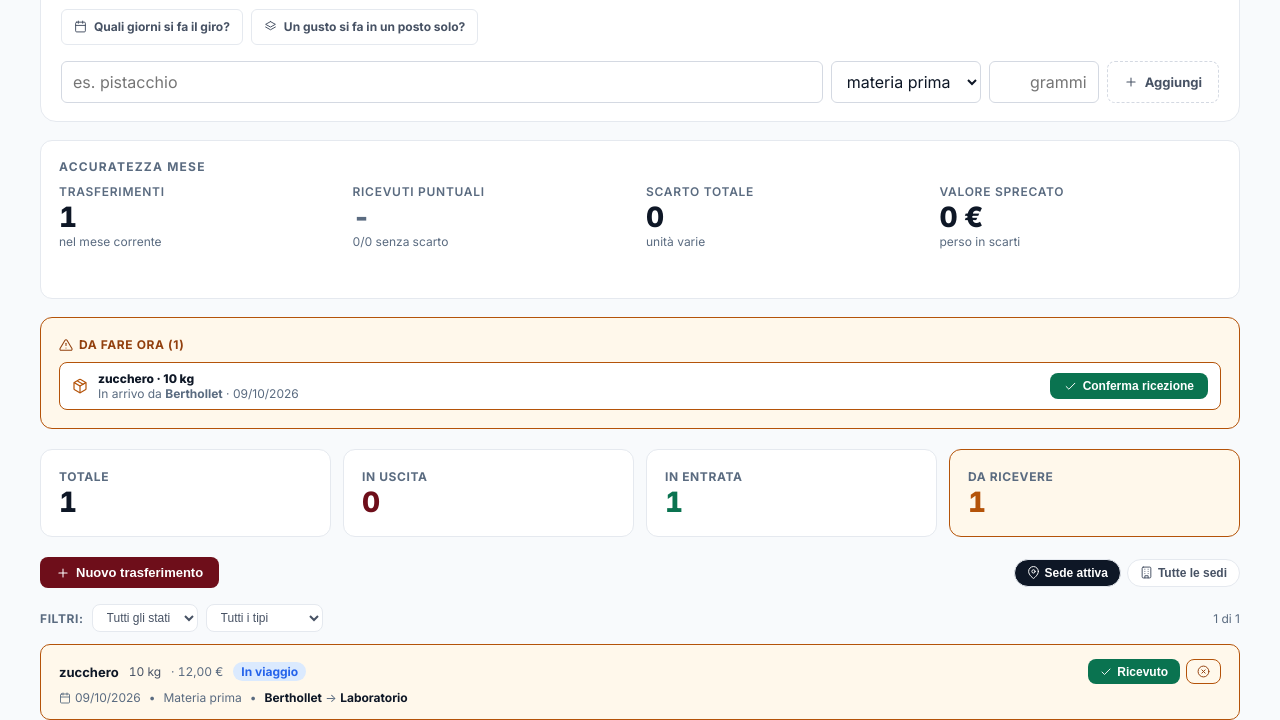
Test case: chi riceve › lo scarto si vede prima di confermare
The image size is (1280, 720).
(page scrolled)
Click the button "Ricevuto".
click(1134, 672)  # box [1088, 659, 1180, 684]
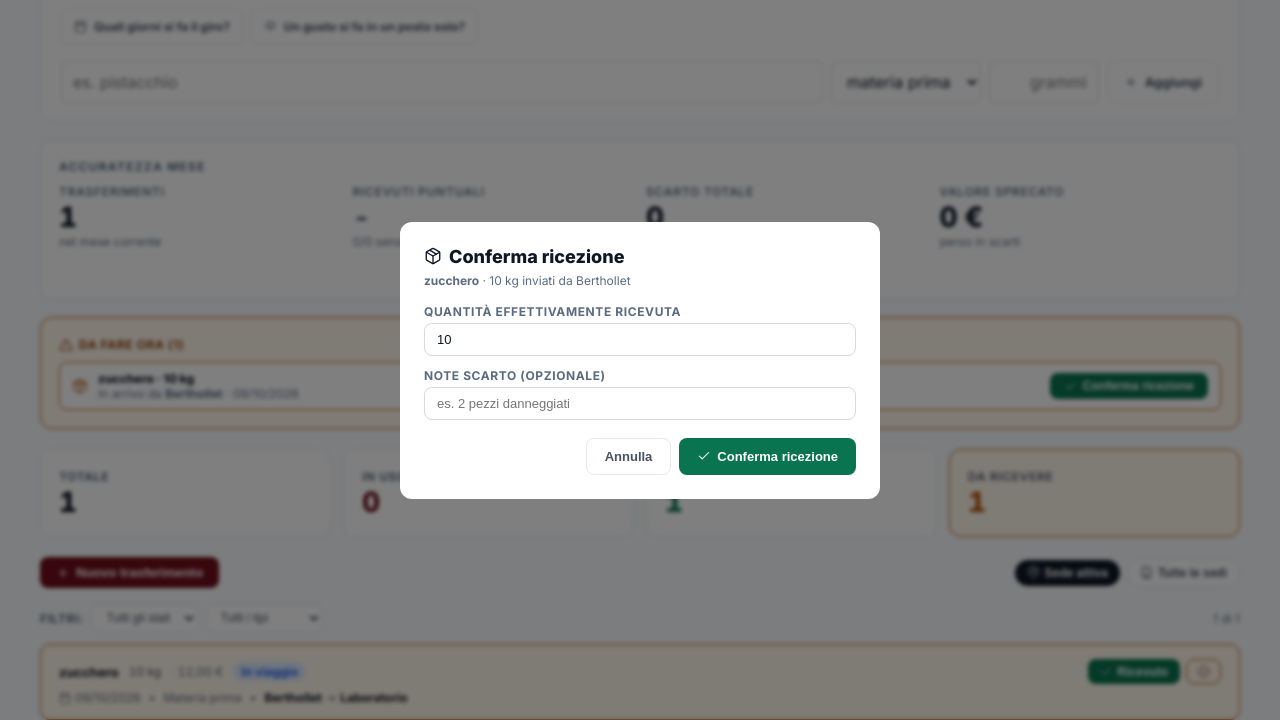
Replace the text in the number field with "8" at [640, 339], box [424, 322, 856, 356]
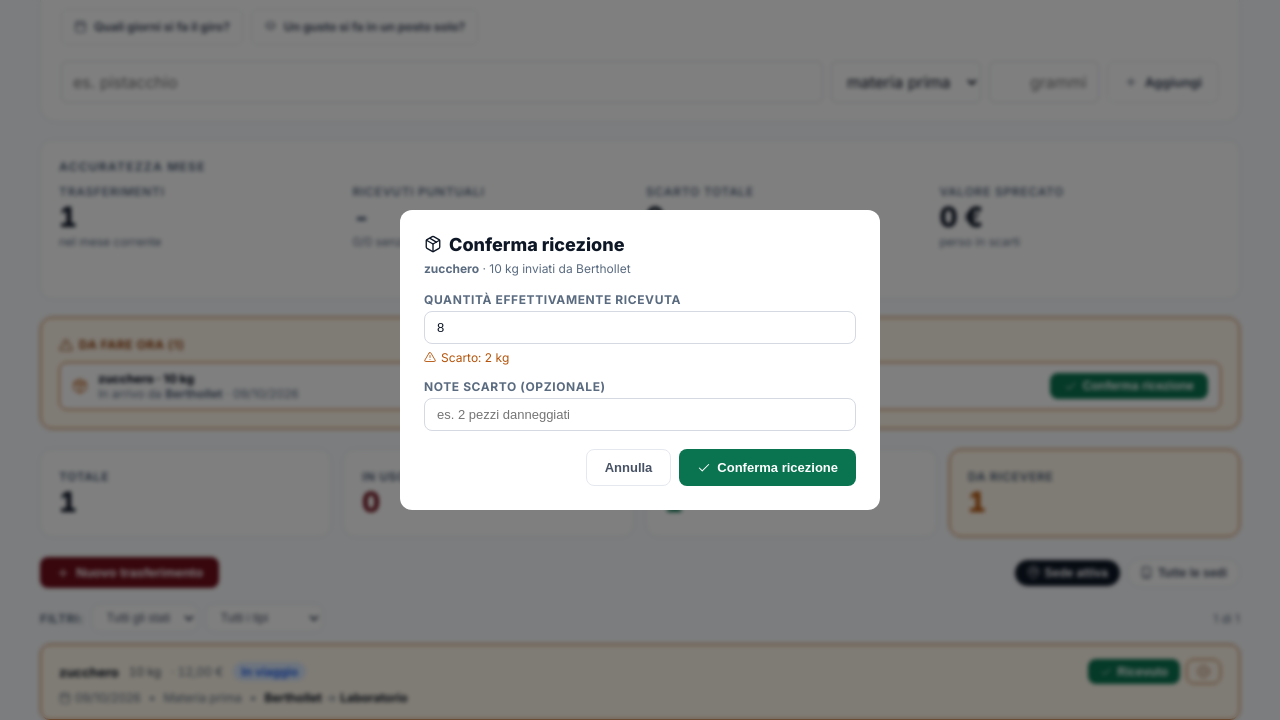
Expected: the text "Scarto: 2 kg" is shown, [424, 350, 509, 365]
